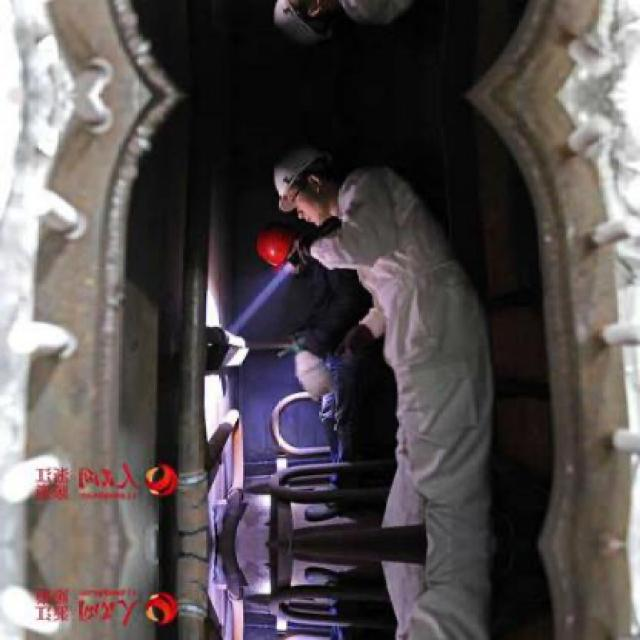helmet: (271, 132, 351, 224), (269, 0, 351, 60), (251, 213, 314, 274)
